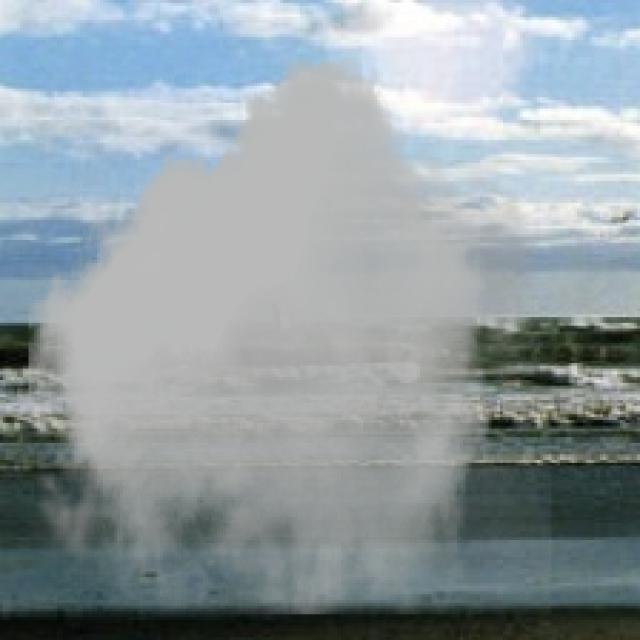Smoke: (19, 57, 552, 614)
